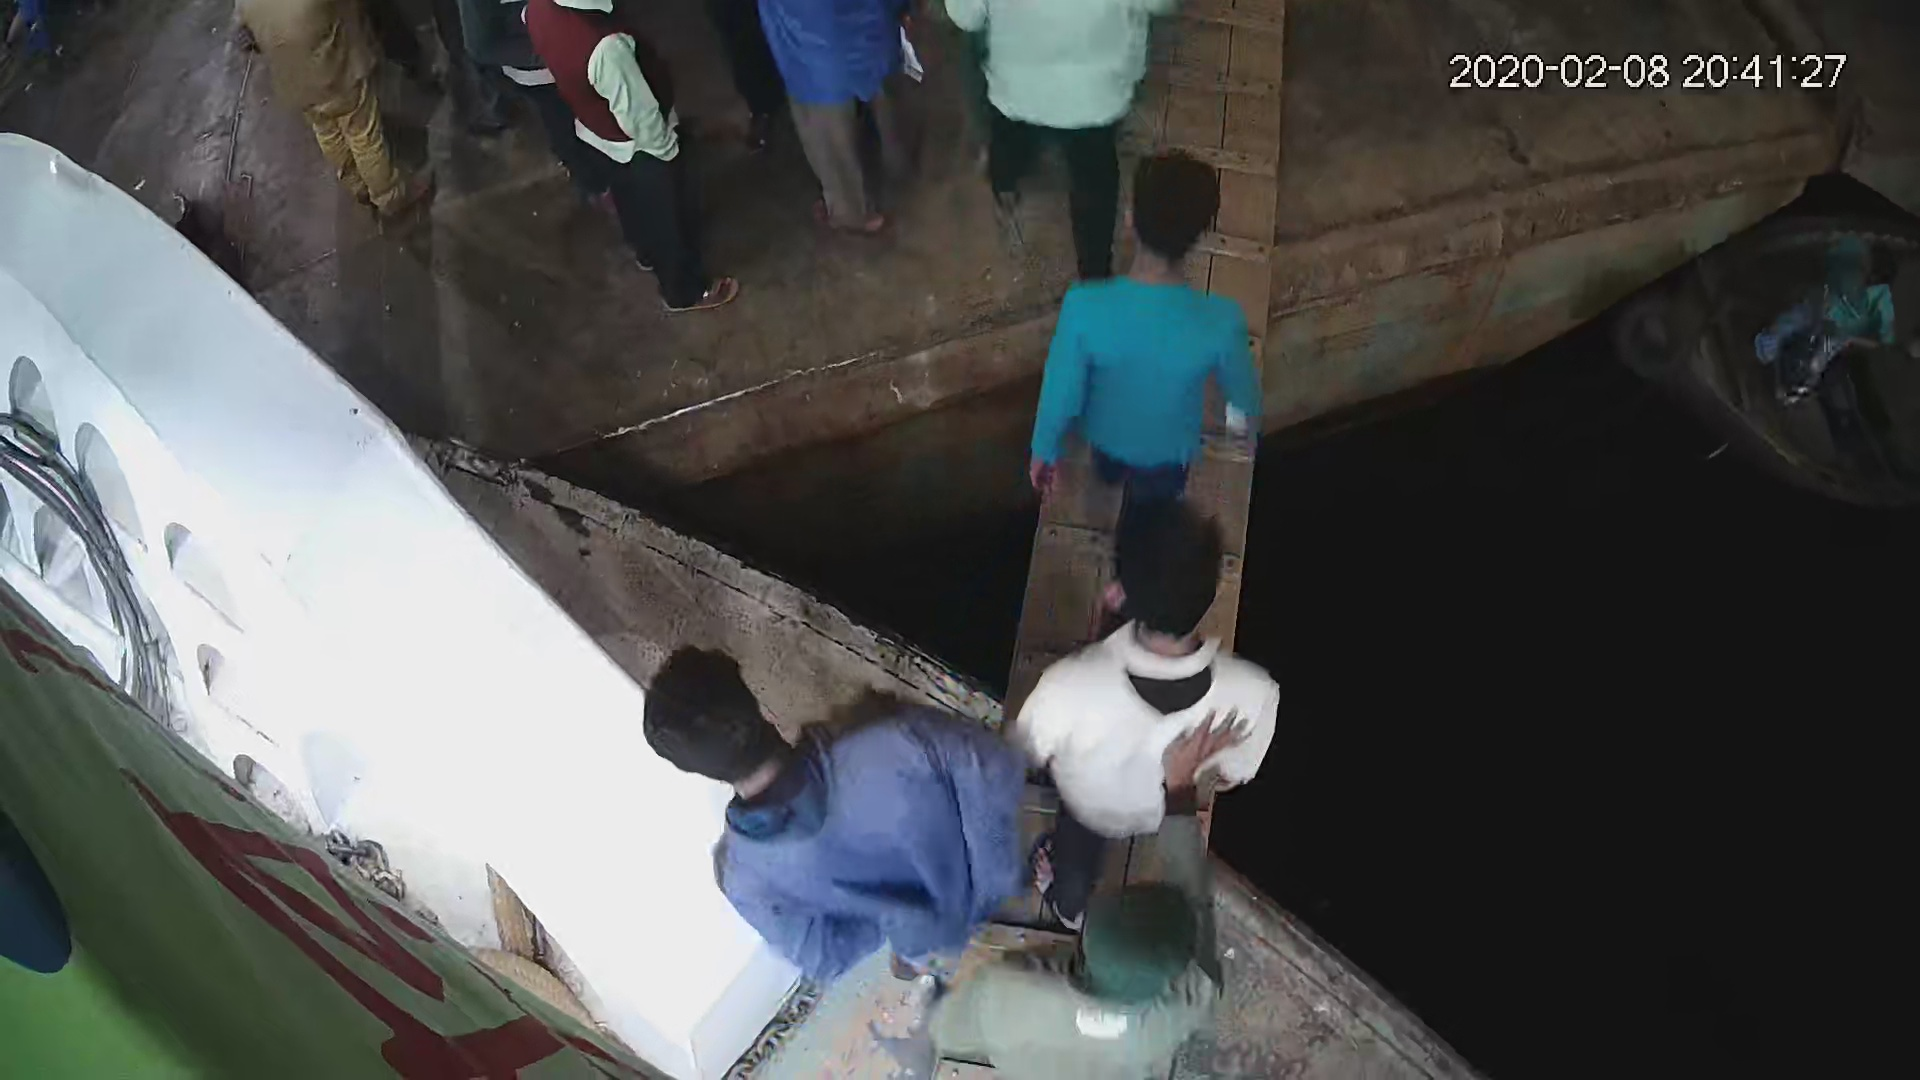person: (635, 636, 1029, 988), (1017, 486, 1296, 940), (1017, 143, 1265, 530), (523, 5, 746, 320), (941, 1, 1169, 276), (923, 874, 1231, 1068), (227, 1, 438, 222)
